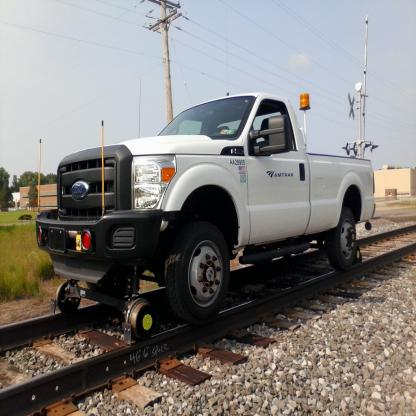Truck: (37, 92, 374, 340)
